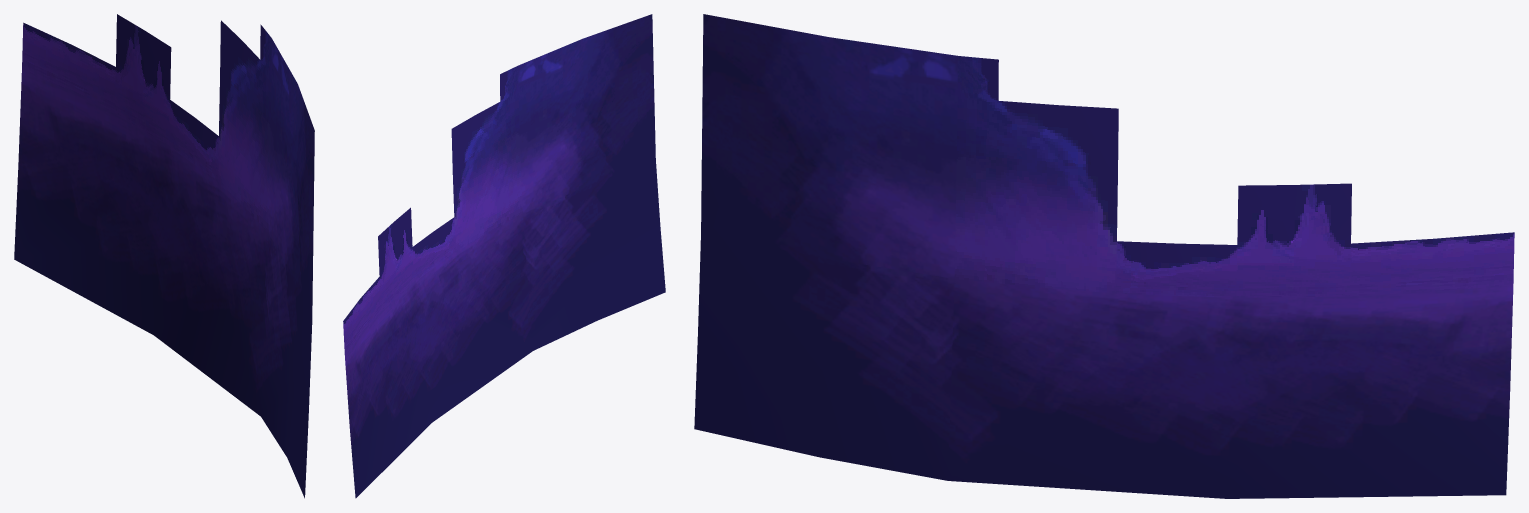
Rendered from SWORDLIGHT20_PS-AREA05-RANGE03_03.fbx.
3 renders of one model, left to right at view 1: azimuth 30°, elevation 25°; view 2: azimuth 150°, elevation 25°; view 3: azimuth 270°, elevation 25°, orthographic. The views are drawn at different scales.
Parts seen in each view (by area): view 1: SWORDLIGHT20_PS-AREA05-RANGE03_03; view 2: SWORDLIGHT20_PS-AREA05-RANGE03_03; view 3: SWORDLIGHT20_PS-AREA05-RANGE03_03.
Boxes of the visible parts, box(x1,y1,x2,y2) form: SWORDLIGHT20_PS-AREA05-RANGE03_03: box(14, 14, 314, 498); SWORDLIGHT20_PS-AREA05-RANGE03_03: box(343, 14, 665, 498); SWORDLIGHT20_PS-AREA05-RANGE03_03: box(694, 14, 1514, 498).
Size of the model in its own units: 67376 by 253833 by 413185.
Materials: 8 (8 with a texture image).
